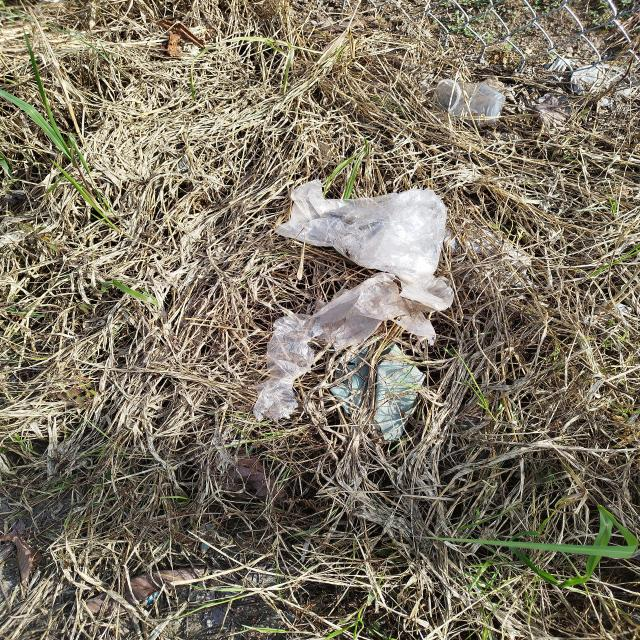bag: (253, 273, 452, 420), (275, 178, 448, 279)
plastic glass: (436, 80, 504, 118)
